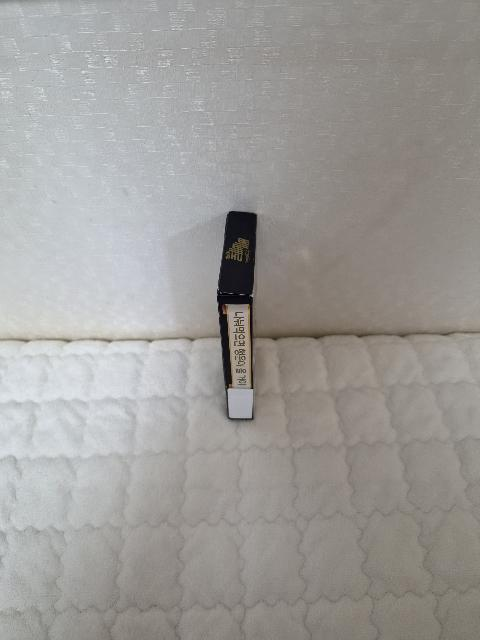pepero: (216, 211, 257, 420)
